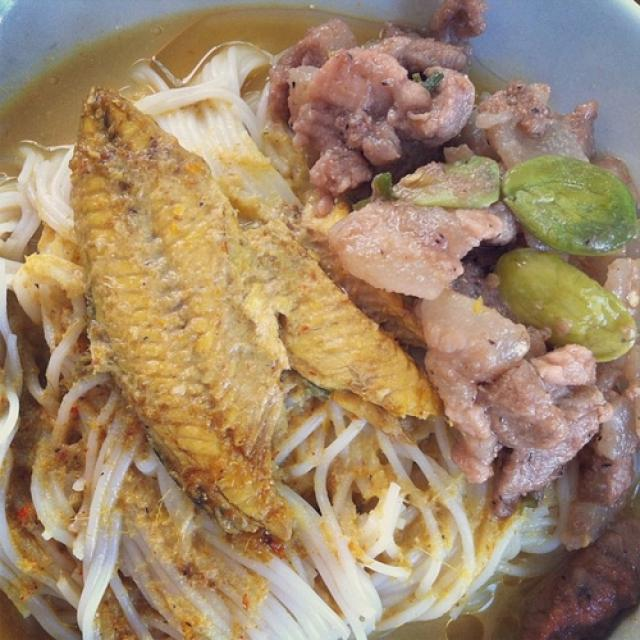面条主食: (27, 28, 601, 618)
